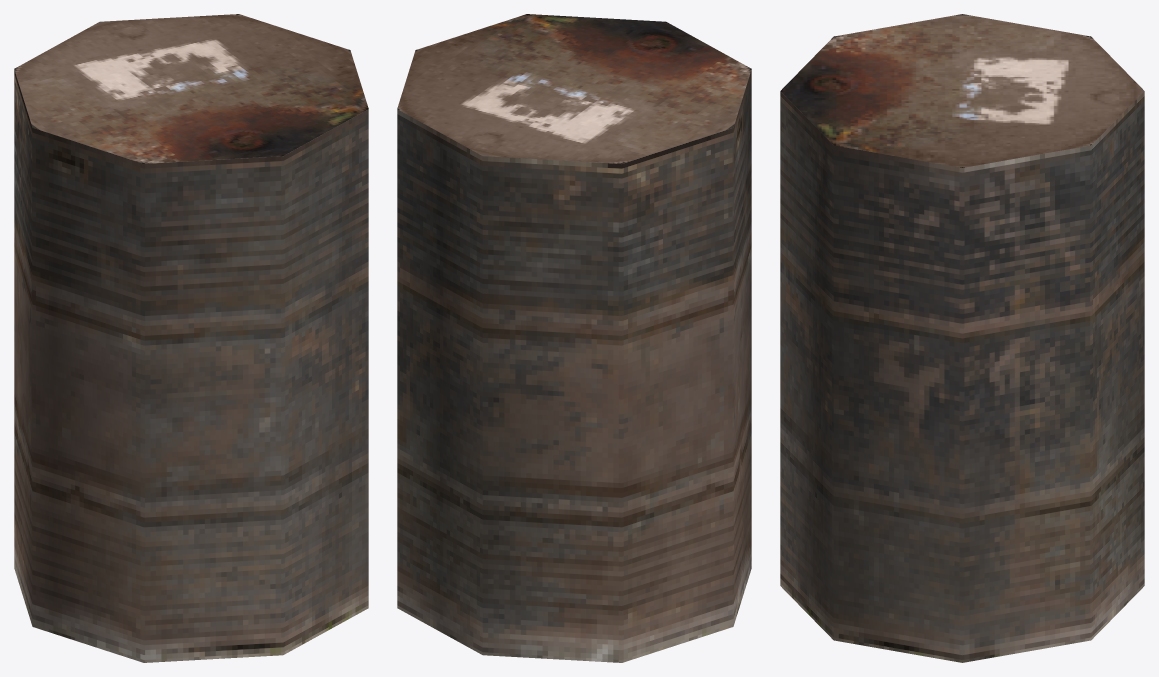
Rendered from _Barrel_1_LOD01.FBX.
3 renders of one model, left to right at view 1: azimuth 30°, elevation 25°; view 2: azimuth 150°, elevation 25°; view 3: azimuth 270°, elevation 25°, orthographic.
Visible parts, largest first — view 1: _Barrel_1_LOD01; view 2: _Barrel_1_LOD01; view 3: _Barrel_1_LOD01.
Boxes of the visible parts, x1=… form: _Barrel_1_LOD01: x1=14, y1=14, x2=368, y2=662; _Barrel_1_LOD01: x1=397, y1=14, x2=751, y2=662; _Barrel_1_LOD01: x1=780, y1=14, x2=1144, y2=662.
Bounding box in the file's own units: 50 × 75 × 50.
3 materials, 3 textured.
